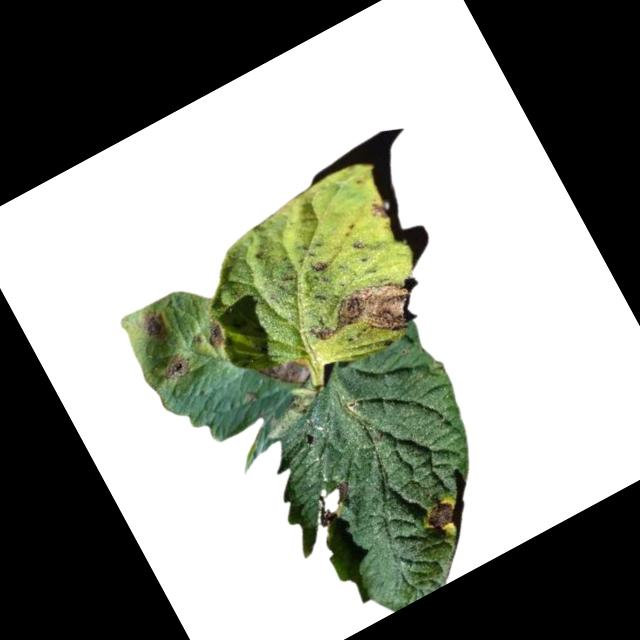Early_blight: (300, 265, 423, 369), (256, 347, 316, 400), (305, 477, 362, 529), (416, 496, 459, 536), (136, 307, 174, 346), (158, 349, 194, 384), (197, 316, 226, 350), (366, 198, 390, 223), (307, 255, 329, 275)
